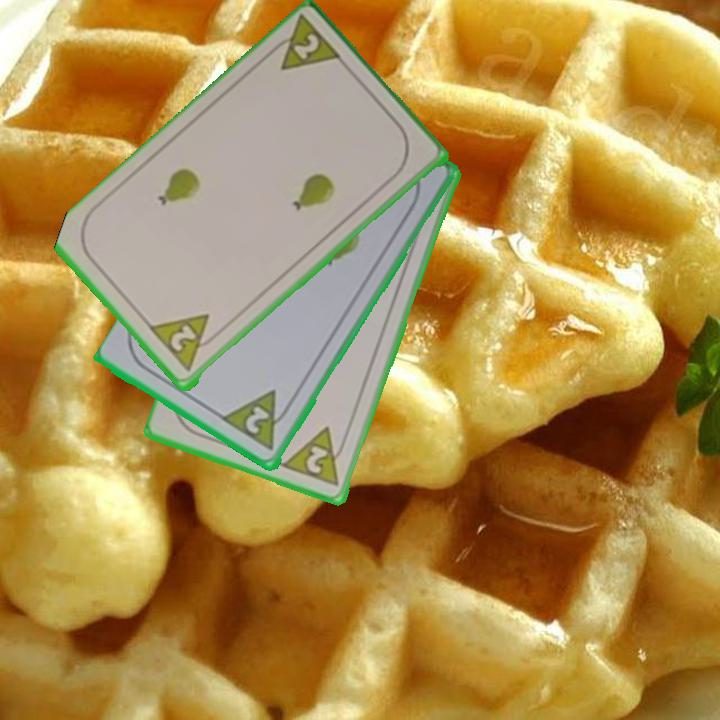2p: (219, 386, 297, 455), (263, 13, 346, 75), (147, 310, 224, 375), (280, 423, 351, 490)
